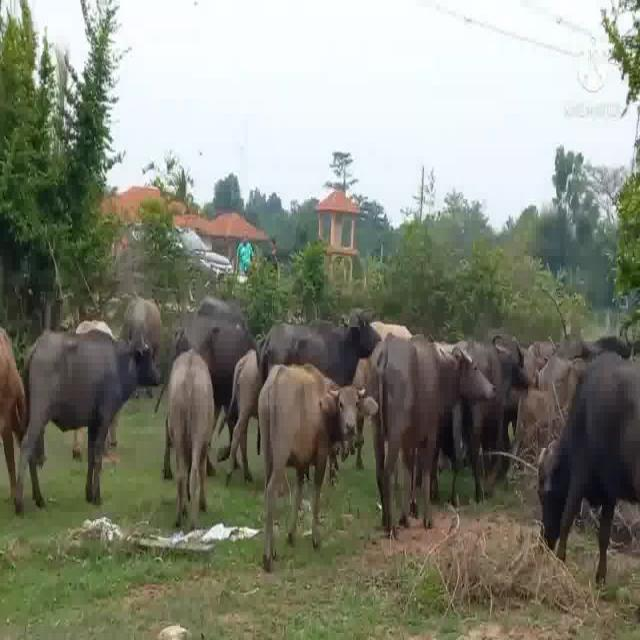buffalo: (528, 346, 636, 597), (23, 320, 136, 510), (365, 321, 454, 539), (258, 359, 344, 554), (181, 285, 278, 411), (163, 345, 221, 524), (0, 319, 30, 520)
